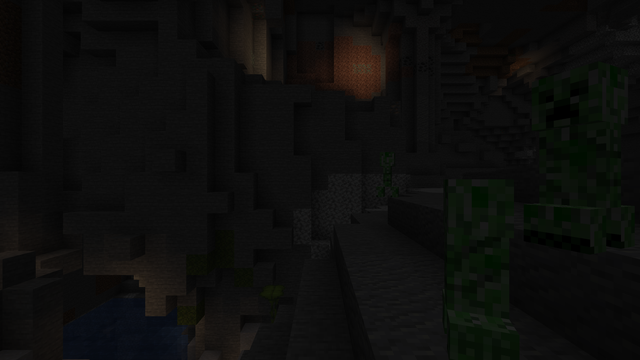creepers: (521, 53, 628, 251), (430, 170, 530, 356), (377, 149, 397, 196)
